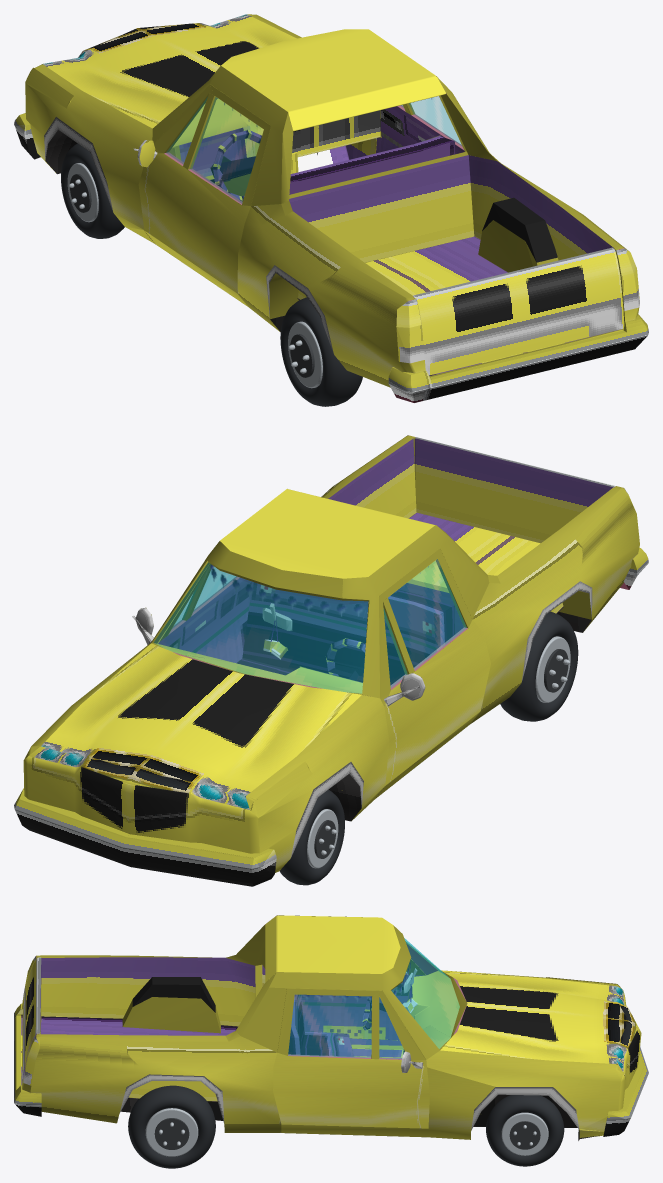
The model's file is car-bbman_v.glb.
3 views of the same model, one above another, from view 1: azimuth 30°, elevation 25°; view 2: azimuth 150°, elevation 25°; view 3: azimuth 270°, elevation 25° (orthographic). The views are drawn at different scales.
Parts seen in each view (by area): view 1: bbman_vShape.005, bbman_vShape.002, bbman_vShape.001, tailgateShape, bbman_vShape.010, HoodRotShape.002, DoorDRotShape.004, DoorDRotShape.008, Rounded tire.006, DoorDRotShape.003, Rounded tire.005, DoorPInnerShape (+7 smaller); view 2: HoodRotShape.002, bbman_vShape.002, bbman_vShape.005, bbman_vShape.001, bbman_vShape.009, bbman_vShape.004, tailgateShape.001, bbman_vShape.010, DoorDRotShape.004, DoorDRotShape.008, DoorPInnerShape, Rounded tire.006 (+11 smaller); view 3: bbman_vShape.003, bbman_vShape.005, bbman_vShape.001, HoodRotShape.002, DoorPRotShape.005, bbman_vShape.002, bbman_vShape.010, DoorPRotShape.009, Rounded tire.007, bbman_vShape.009, DoorDInnerShape, Rounded tire.004 (+9 smaller).
Boxes of the visible parts, box(x1,y1,x2,y2) form: bbman_vShape.005: box(157, 88, 617, 375); bbman_vShape.002: box(25, 14, 639, 387); bbman_vShape.001: box(14, 66, 648, 402); tailgateShape: box(413, 247, 624, 375); bbman_vShape.010: box(221, 29, 445, 131); HoodRotShape.002: box(43, 14, 296, 128); DoorDRotShape.004: box(138, 153, 250, 293); DoorDRotShape.008: box(166, 97, 263, 203); Rounded tire.006: box(280, 297, 362, 406); DoorDRotShape.003: box(154, 84, 270, 206); Rounded tire.005: box(61, 143, 124, 238); DoorPInnerShape: box(376, 106, 464, 154); HoodRotShape.002: box(41, 643, 361, 796); bbman_vShape.002: box(24, 435, 639, 872); bbman_vShape.005: box(155, 439, 563, 790); bbman_vShape.001: box(14, 435, 648, 886); bbman_vShape.009: box(154, 562, 368, 693); bbman_vShape.004: box(23, 746, 259, 853); tailgateShape.001: box(414, 438, 615, 543); bbman_vShape.010: box(220, 489, 434, 578); DoorDRotShape.004: box(384, 620, 490, 784); DoorDRotShape.008: box(384, 559, 466, 687); DoorPInnerShape: box(158, 577, 252, 662); Rounded tire.006: box(500, 611, 578, 721); bbman_vShape.003: box(30, 1036, 495, 1139); bbman_vShape.005: box(21, 957, 459, 1101); bbman_vShape.001: box(14, 915, 648, 1136); HoodRotShape.002: box(440, 970, 628, 1063); DoorPRotShape.005: box(273, 1052, 429, 1128); bbman_vShape.002: box(22, 955, 622, 1137); bbman_vShape.010: box(265, 915, 400, 982); DoorPRotShape.009: box(288, 995, 404, 1058); Rounded tire.007: box(128, 1085, 215, 1168); bbman_vShape.009: box(391, 938, 459, 1048); DoorDInnerShape: box(302, 975, 424, 1039); Rounded tire.004: box(486, 1095, 564, 1166).
Bounding box in the file's own units: 2.48 × 1.92 × 6.09.
15 materials, 12 textured.
